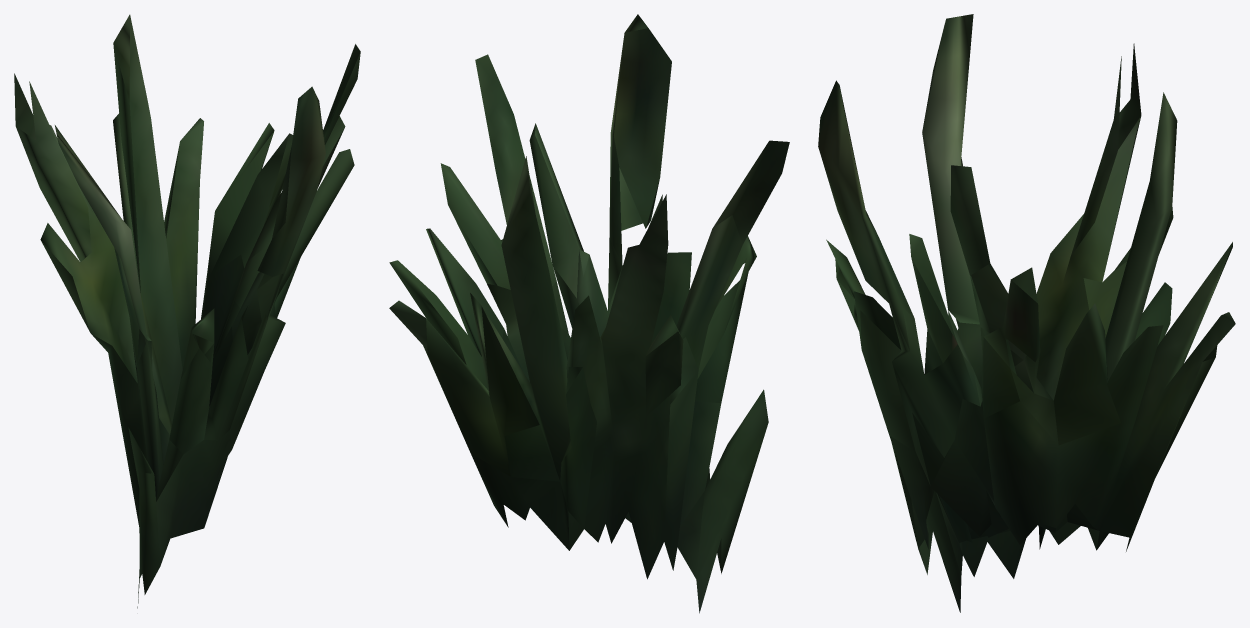
File: terrain4_plant_2.glb
3 views of the same model, side by side, from view 1: azimuth 30°, elevation 25°; view 2: azimuth 150°, elevation 25°; view 3: azimuth 270°, elevation 25° (orthographic). The views are drawn at different scales.
Parts seen in each view (by area): view 1: plant_2; view 2: plant_2; view 3: plant_2.
Part boxes in pixels (box(x1,y1,x2,y2)): plant_2: box(14, 14, 360, 608); plant_2: box(389, 14, 789, 613); plant_2: box(818, 14, 1235, 612).
Bounding box in the file's own units: 8.15 × 13.3 × 8.43.
1 material, 1 textured.
